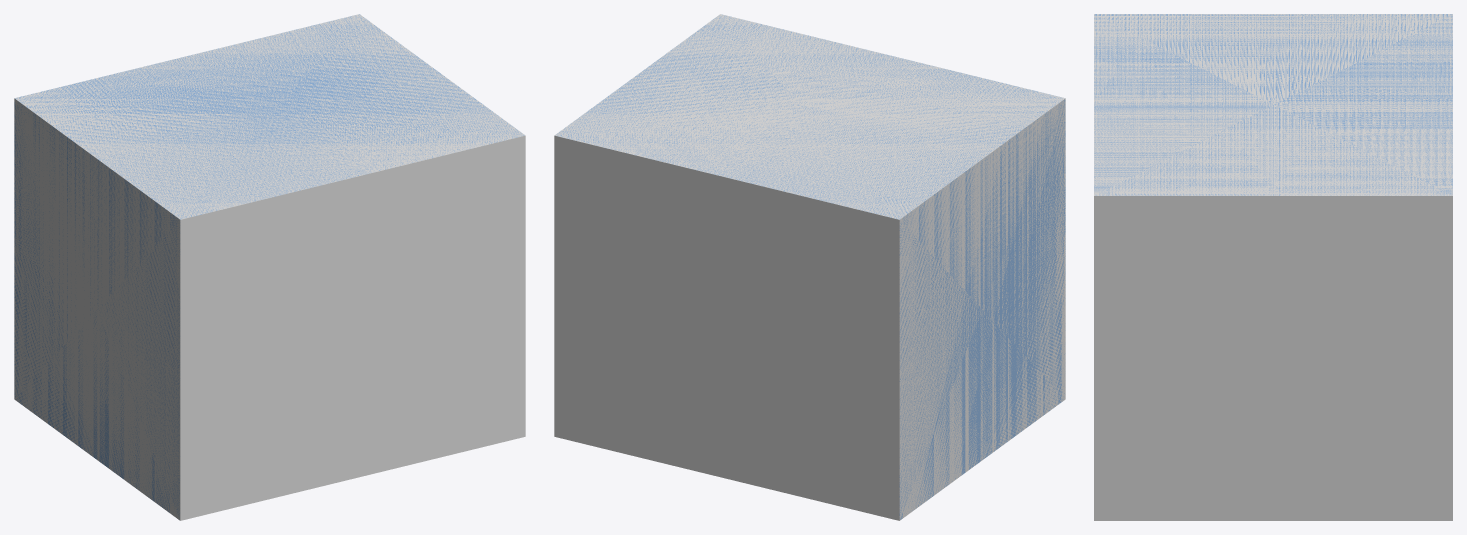
The model's file is standard-processed-by-blender.glb.
The picture shows the model from 3 angles, left to right: view 1: azimuth 30°, elevation 25°; view 2: azimuth 150°, elevation 25°; view 3: azimuth 270°, elevation 25°; orthographic projection. The views are drawn at different scales.
Visible parts, largest first — view 1: COL_prop_energy_crate_01, SM_prop_energy_crate_01_LOD0; view 2: COL_prop_energy_crate_01, SM_prop_energy_crate_01_LOD0; view 3: COL_prop_energy_crate_01, SM_prop_energy_crate_01_LOD0.
Part boxes in pixels (x1,y1,x2,y2): COL_prop_energy_crate_01: (14, 14, 525, 520); SM_prop_energy_crate_01_LOD0: (14, 14, 524, 518); COL_prop_energy_crate_01: (554, 14, 1065, 520); SM_prop_energy_crate_01_LOD0: (555, 14, 1065, 519); COL_prop_energy_crate_01: (1094, 14, 1452, 520); SM_prop_energy_crate_01_LOD0: (1094, 14, 1452, 195).
Size of what is drawn, in the model's own units: 1.2 by 1 by 1.
